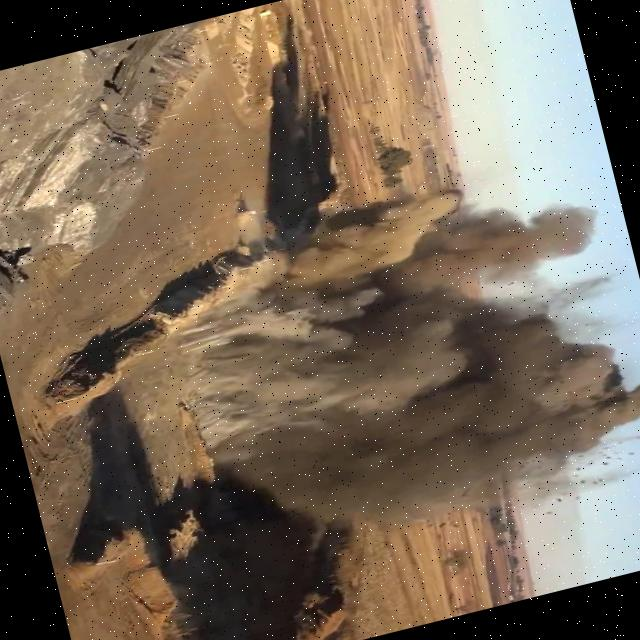explosion: (17, 124, 640, 617)
